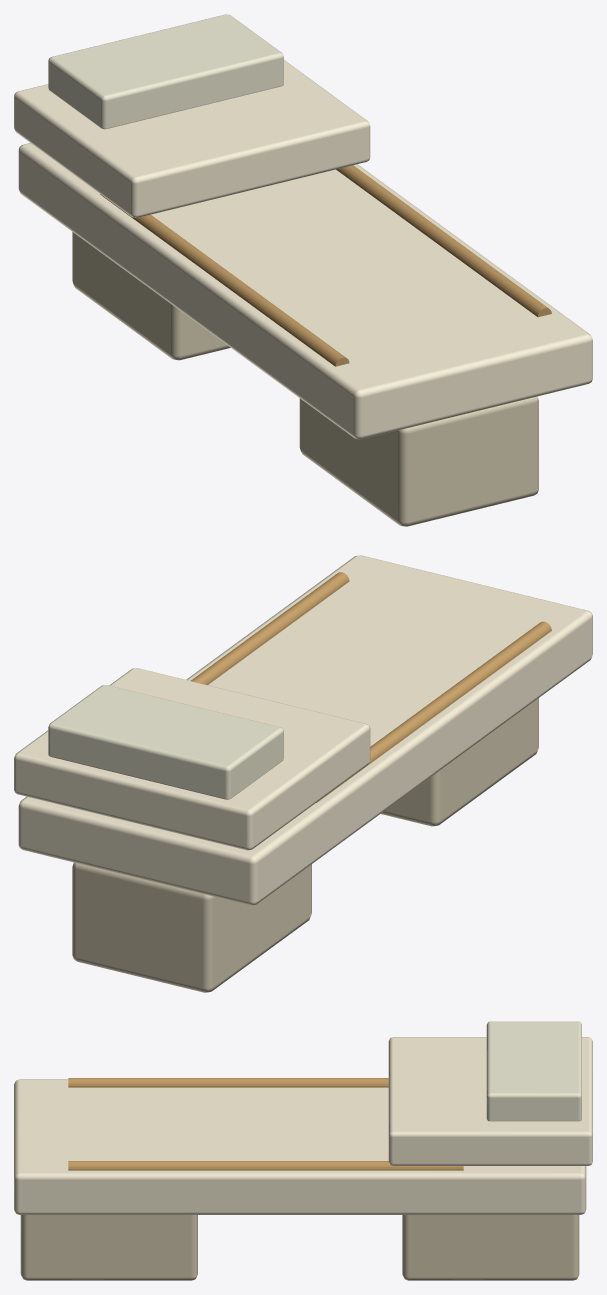
File: fantasy-bathhouse-and-thermal-sanctuary-fantasy-bathho-64d1c0b8__29457.glb
3 views of the same model, one above another, from view 1: azimuth 30°, elevation 25°; view 2: azimuth 150°, elevation 25°; view 3: azimuth 270°, elevation 25° (orthographic). The views are drawn at different scales.
Parts seen in each view (by area): view 1: fantasy-bathhouse-and-thermal-sanctuary-reclining-stone-couc (×4); view 2: fantasy-bathhouse-and-thermal-sanctuary-reclining-stone-couc (×4); view 3: fantasy-bathhouse-and-thermal-sanctuary-reclining-stone-couc (×4).
Boxes of the visible parts, left/top/right/bottom form: fantasy-bathhouse-and-thermal-sanctuary-reclining-stone-couc (×4): left=14, top=14, right=592, bottom=526; fantasy-bathhouse-and-thermal-sanctuary-reclining-stone-couc (×4): left=14, top=555, right=592, bottom=992; fantasy-bathhouse-and-thermal-sanctuary-reclining-stone-couc (×4): left=14, top=1021, right=592, bottom=1280.
Bounding box in the file's own units: 0.8499 × 0.7999 × 2.12.
